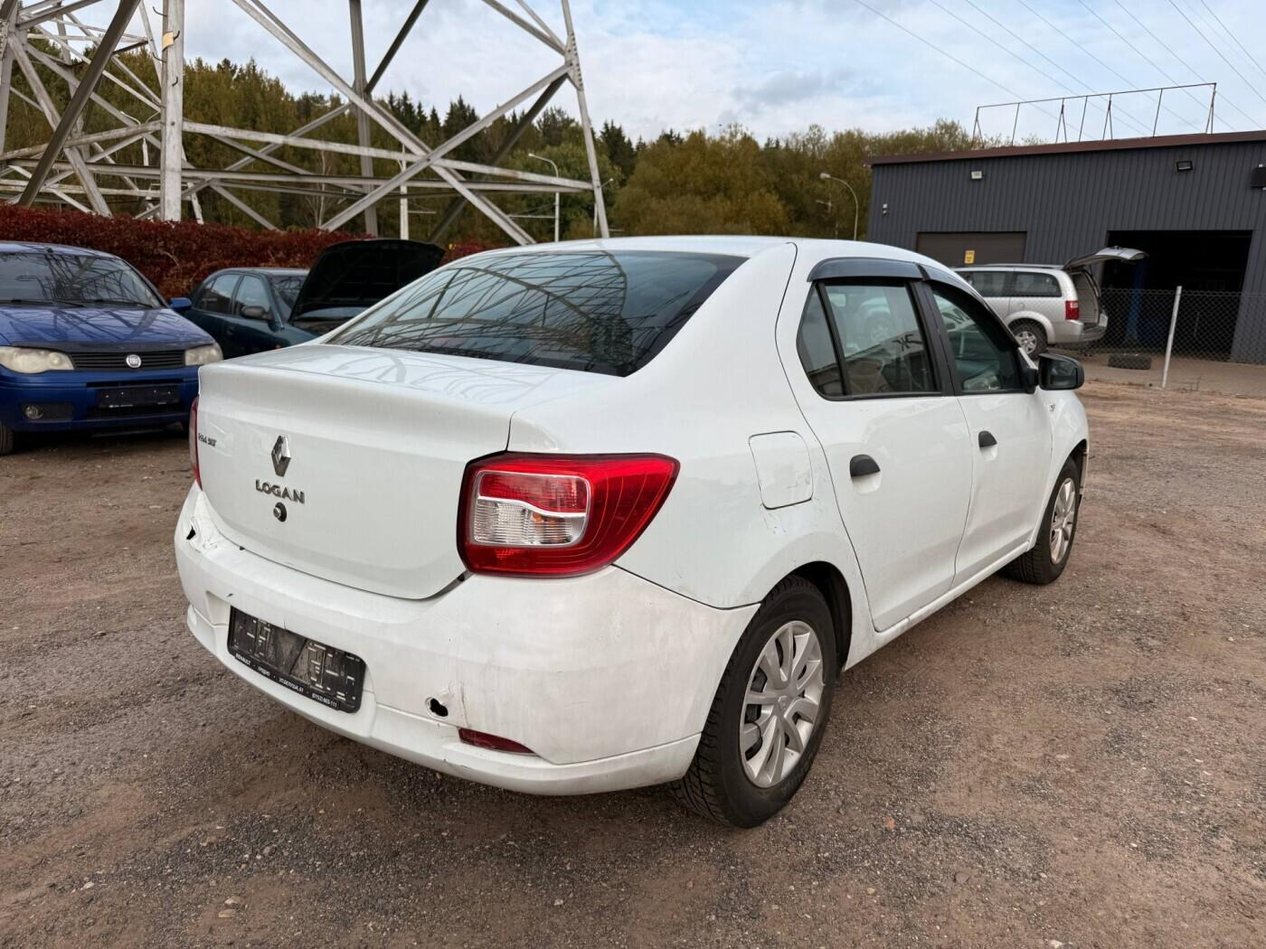Logan_2018: (169, 236, 1115, 821)
